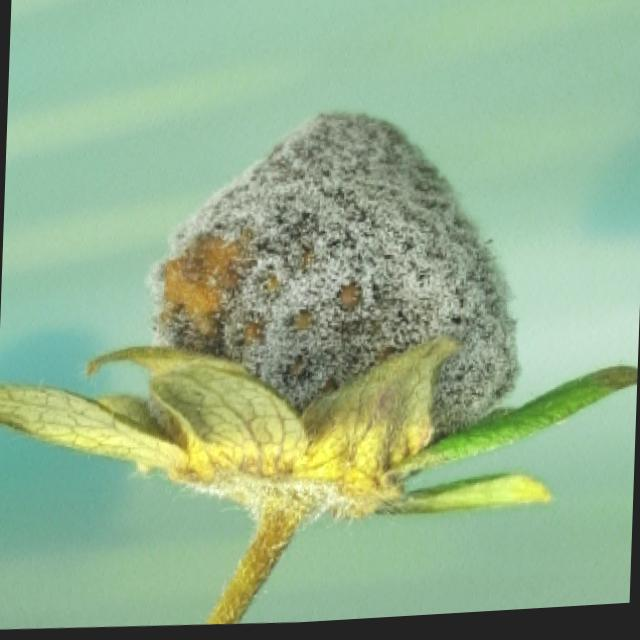Gray Mold: (0, 108, 519, 522)
